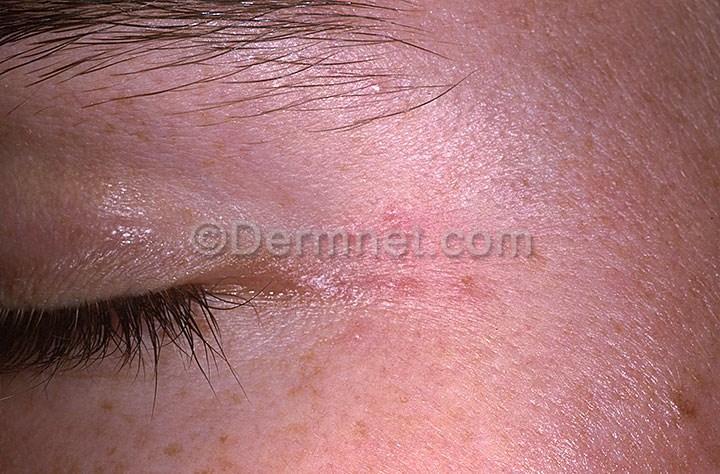Acne: (626, 380, 699, 432), (452, 250, 497, 306)
